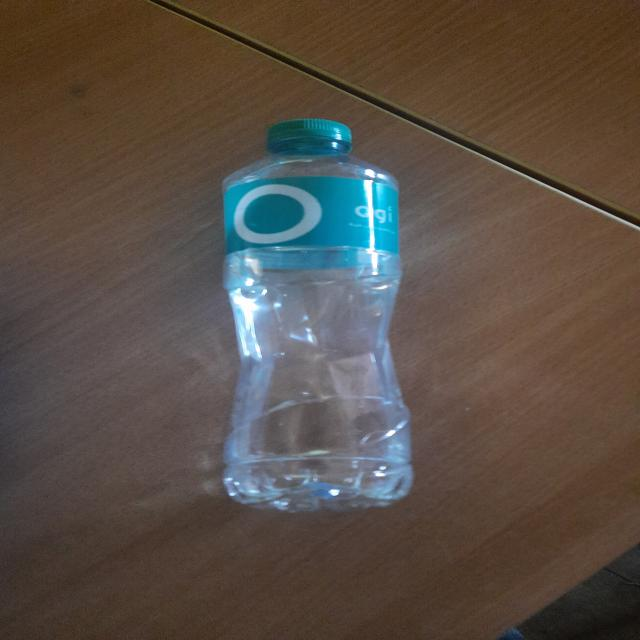plastic: (140, 90, 504, 526)
